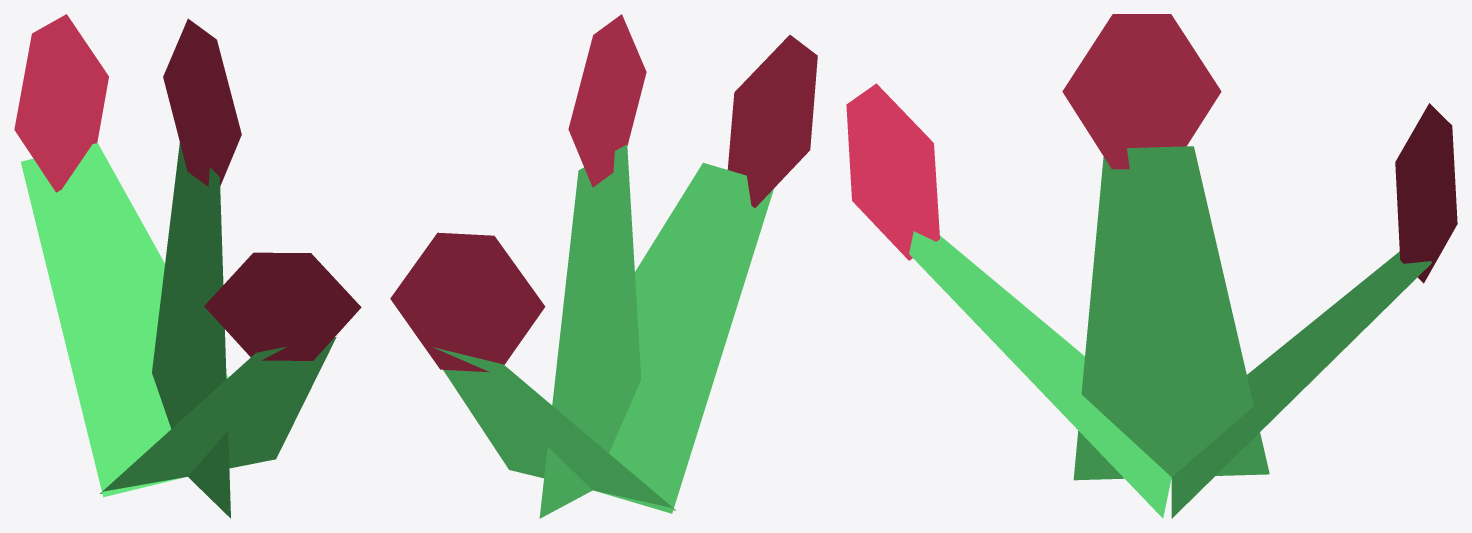
File: pot_liefs_super.glb
3 views of the same model, side by side, from view 1: azimuth 30°, elevation 25°; view 2: azimuth 150°, elevation 25°; view 3: azimuth 270°, elevation 25° (orthographic).
Parts seen in each view (by area): view 1: Plane, Plane.002, Plane.001, Plane.008, Plane.007, Plane.006; view 2: Plane.001, Plane.002, Plane.007, Plane, Plane.008, Plane.006; view 3: Plane.002, Plane.006, Plane.001, Plane, Plane.008, Plane.007.
Part boxes in pixels (<box>): Plane: <box>21,143,228,497</box>; Plane.002: <box>152,142,230,518</box>; Plane.001: <box>100,337,336,493</box>; Plane.008: <box>204,252,361,360</box>; Plane.007: <box>14,14,108,192</box>; Plane.006: <box>163,18,241,186</box>; Plane.001: <box>552,162,773,513</box>; Plane.002: <box>539,144,641,518</box>; Plane.007: <box>390,232,545,372</box>; Plane: <box>433,347,675,510</box>; Plane.008: <box>727,35,817,207</box>; Plane.006: <box>568,14,646,187</box>; Plane.002: <box>1073,146,1269,480</box>; Plane.006: <box>1062,14,1221,169</box>; Plane.001: <box>909,231,1171,518</box>; Plane: <box>1171,251,1431,518</box>; Plane.008: <box>846,83,939,260</box>; Plane.007: <box>1395,103,1457,283</box>.
Bounding box in the file's own units: 0.8344 × 1.99 × 2.35.
